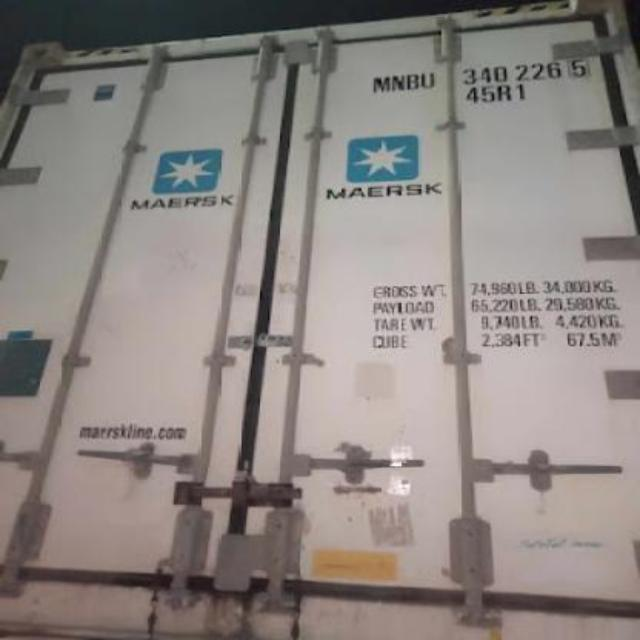0: (492, 59, 508, 86)
2: (512, 60, 530, 82), (530, 61, 546, 84)
3: (460, 64, 476, 85)
4: (478, 64, 492, 85)
5: (568, 56, 588, 80)
6: (546, 60, 564, 82)
B: (406, 67, 418, 91)
M: (370, 73, 390, 94)
N: (390, 71, 406, 95)
U: (420, 66, 436, 94)
